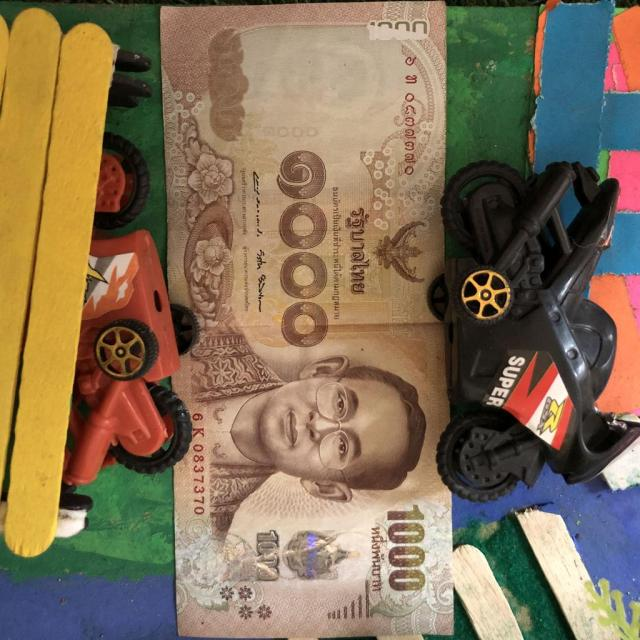THAI1000: (161, 2, 451, 637)
